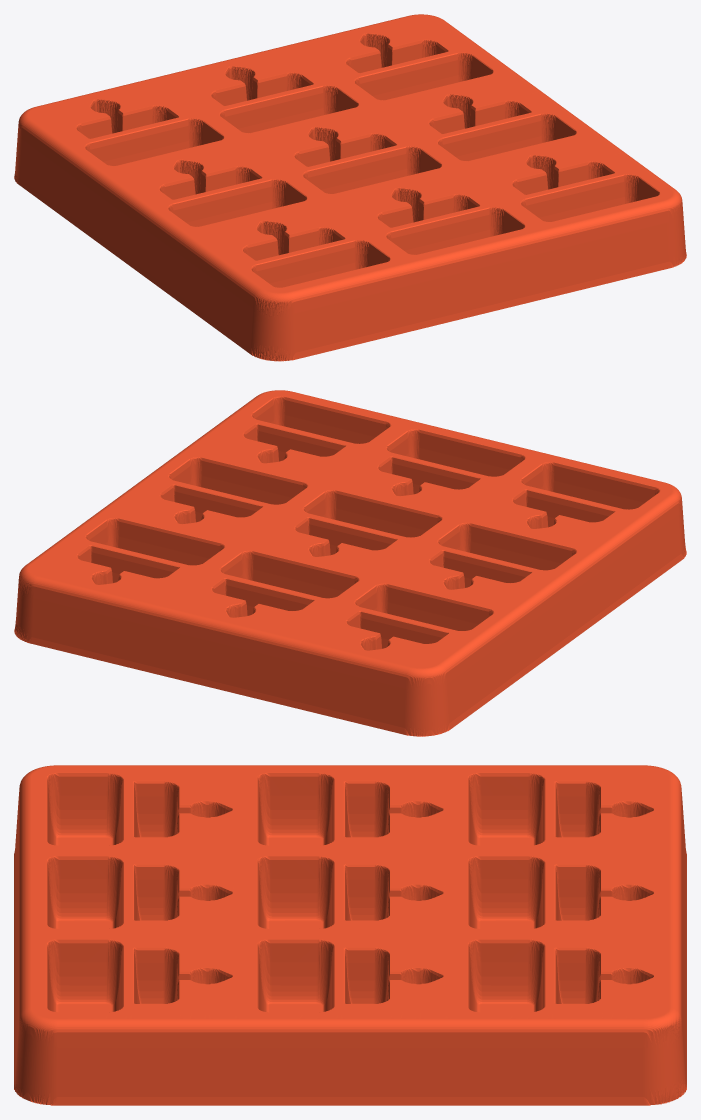
File: mold.glb
The picture shows the model from 3 angles, top to bottom: view 1: azimuth 30°, elevation 25°; view 2: azimuth 150°, elevation 25°; view 3: azimuth 270°, elevation 25°; orthographic projection. The views are drawn at different scales.
Parts seen in each view (by area): view 1: geometry_0; view 2: geometry_0; view 3: geometry_0.
Boxes of the visible parts, x1,y1,x2,y2 form: geometry_0: (14, 14, 686, 361); geometry_0: (14, 390, 686, 736); geometry_0: (14, 765, 686, 1105).
Bounding box in the file's own units: 0.1317 × 0.0182 × 0.1402.
